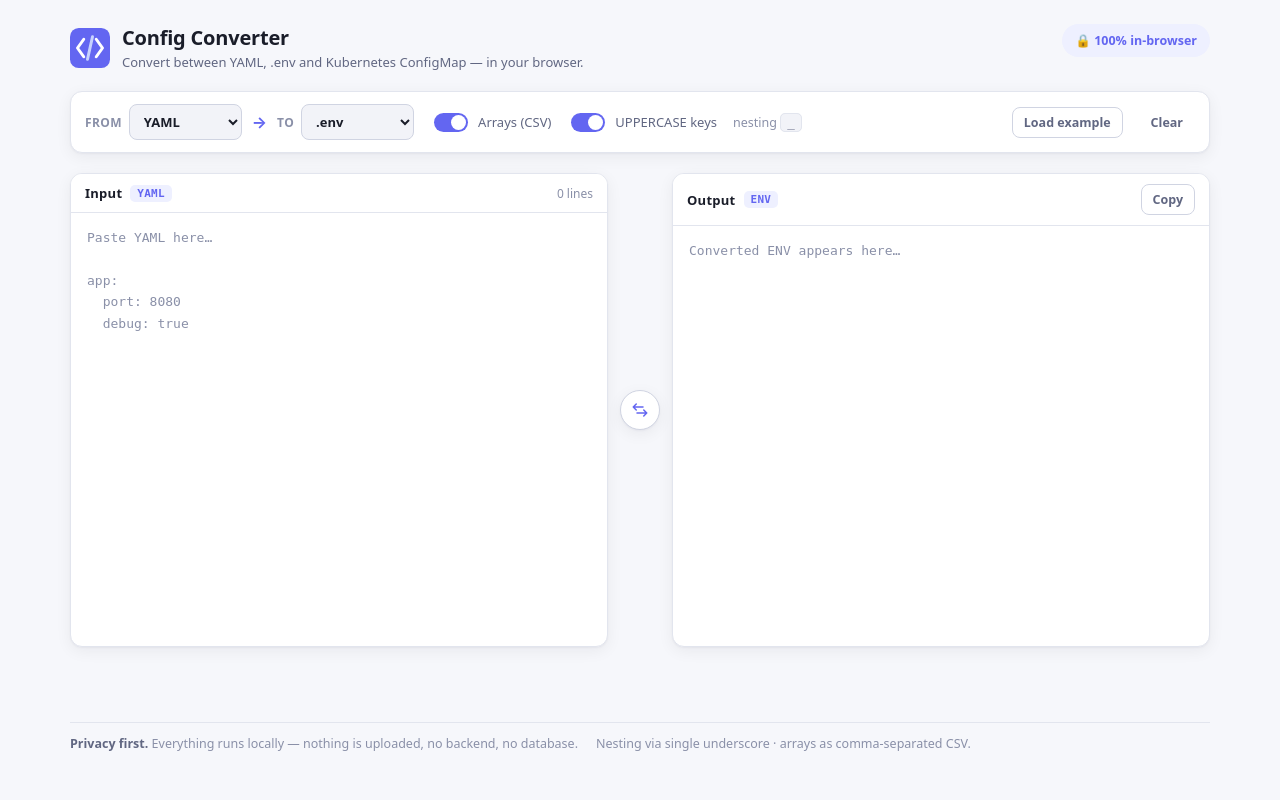
Test: App › surfaces an error for invalid YAML
The image size is (1280, 800).
Type "foo: [unclosed" into the text box named "Input" at [339, 430], box [71,213,607,646]
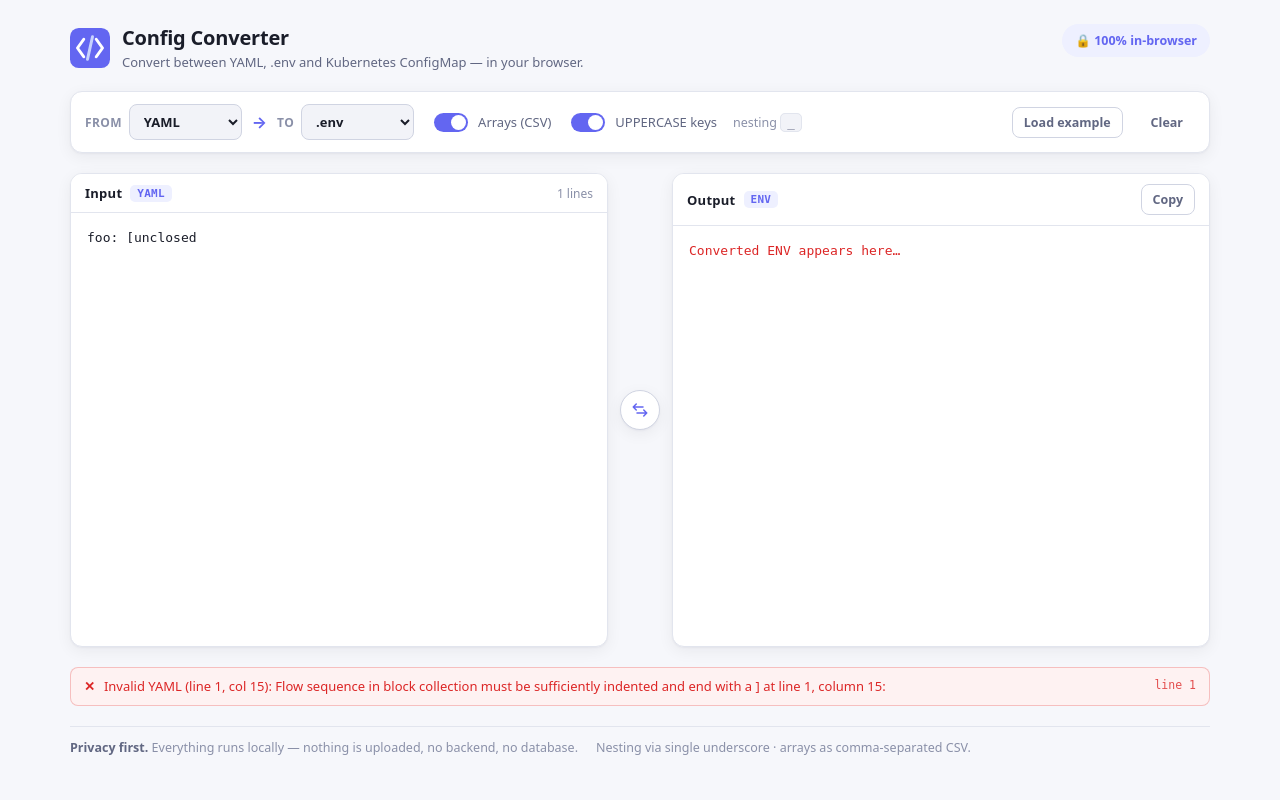
Expected: the text "Invalid YAML" is shown, [104,677,886,695]
